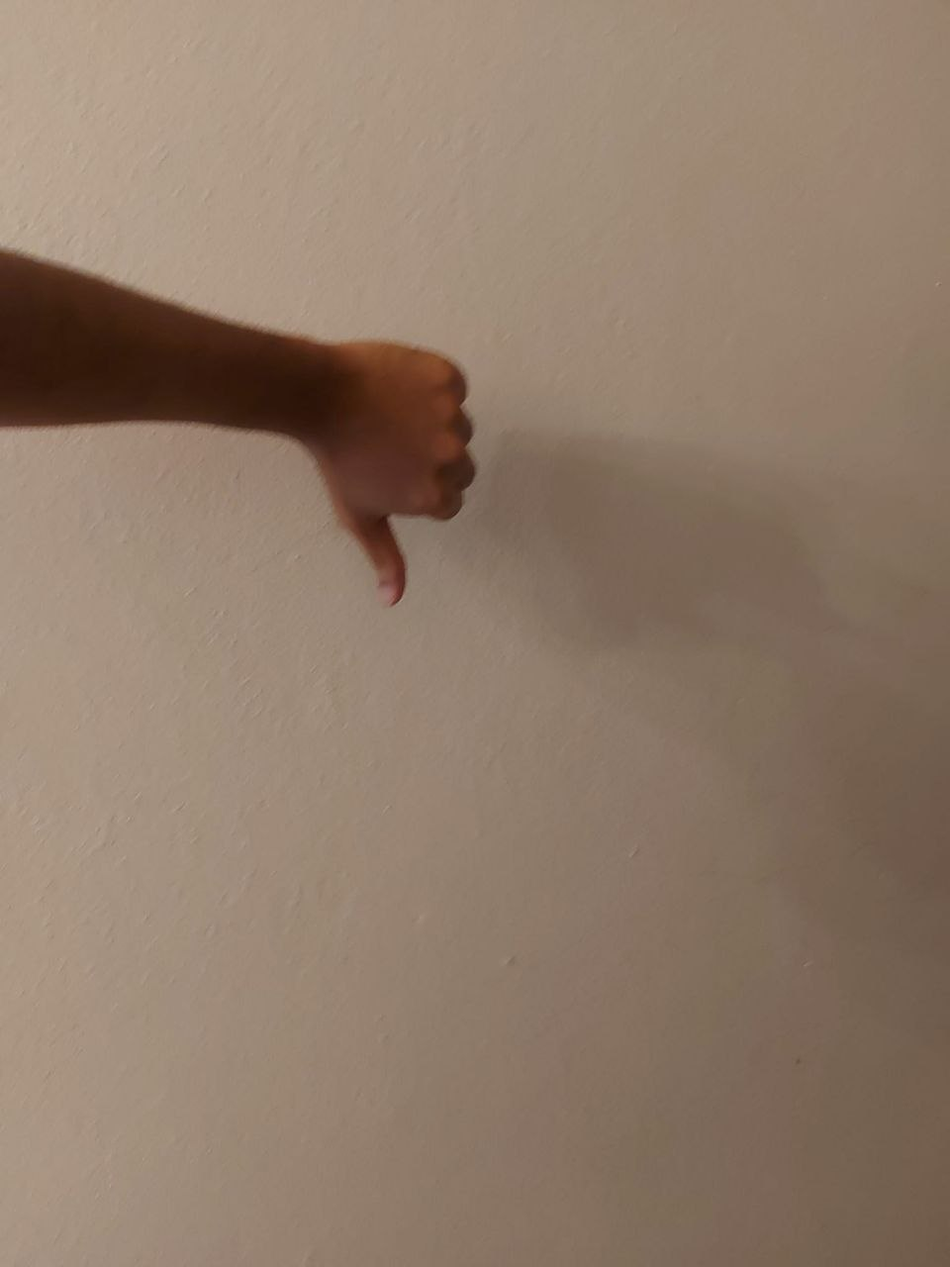Thumbs down: (260, 220, 548, 664)
